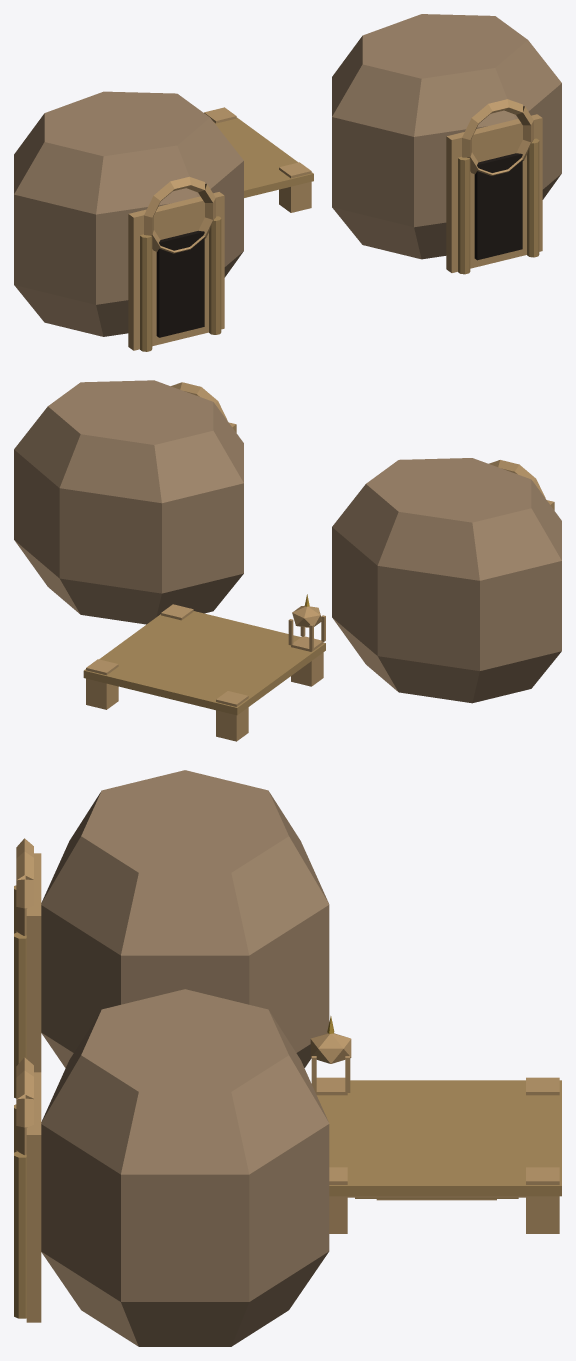
Rendered from cat_row.glb.
The picture shows the model from 3 angles, top to bottom: view 1: azimuth 30°, elevation 25°; view 2: azimuth 150°, elevation 25°; view 3: azimuth 270°, elevation 25°; orthographic projection. The views are drawn at different scales.
Visible parts, largest first — view 1: cat_row; view 2: cat_row; view 3: cat_row.
Boxes of the visible parts, x1,y1,x2,y2 form: cat_row: (14,14,561,351); cat_row: (14,380,561,741); cat_row: (14,770,561,1346).
Bounding box in the file's own units: 5.78 × 1.9 × 3.7.
